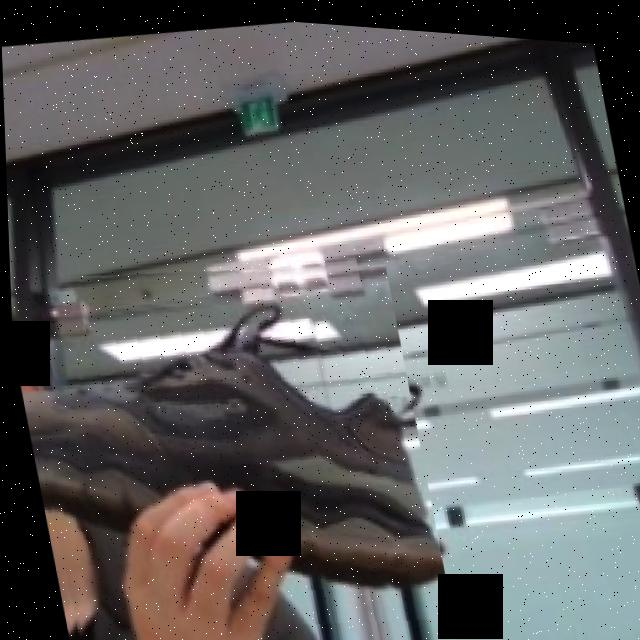shoe: (6, 219, 456, 640)
